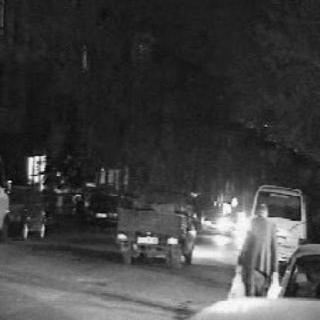other: (191, 196, 255, 268)
